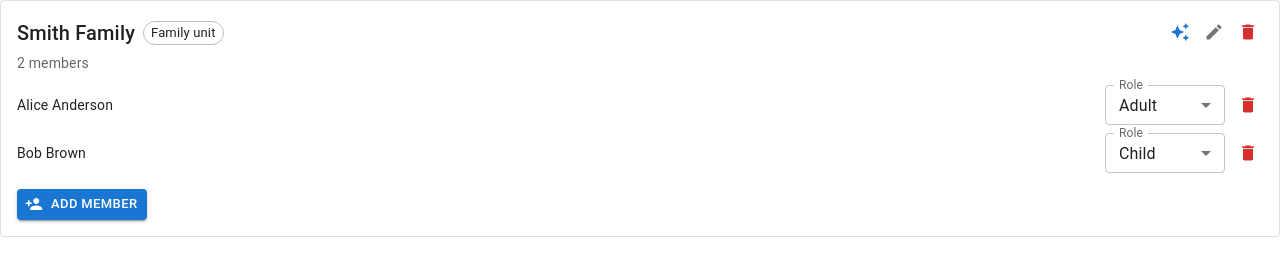
Test: Add Member reveals the contact search autocomplete
The image size is (1280, 263).
Step 1. Click the button "Add Member" → click(82, 204), box [17,189,147,220]
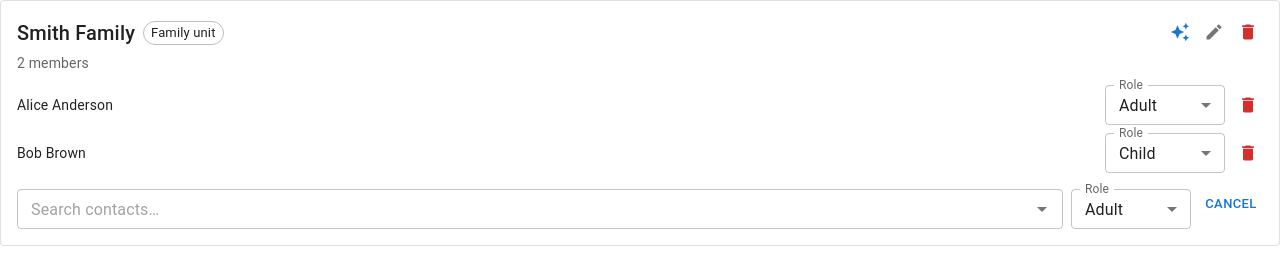
Expected: the dropdown with placeholder "Search contacts…" is shown, [23,195,1024,223]
